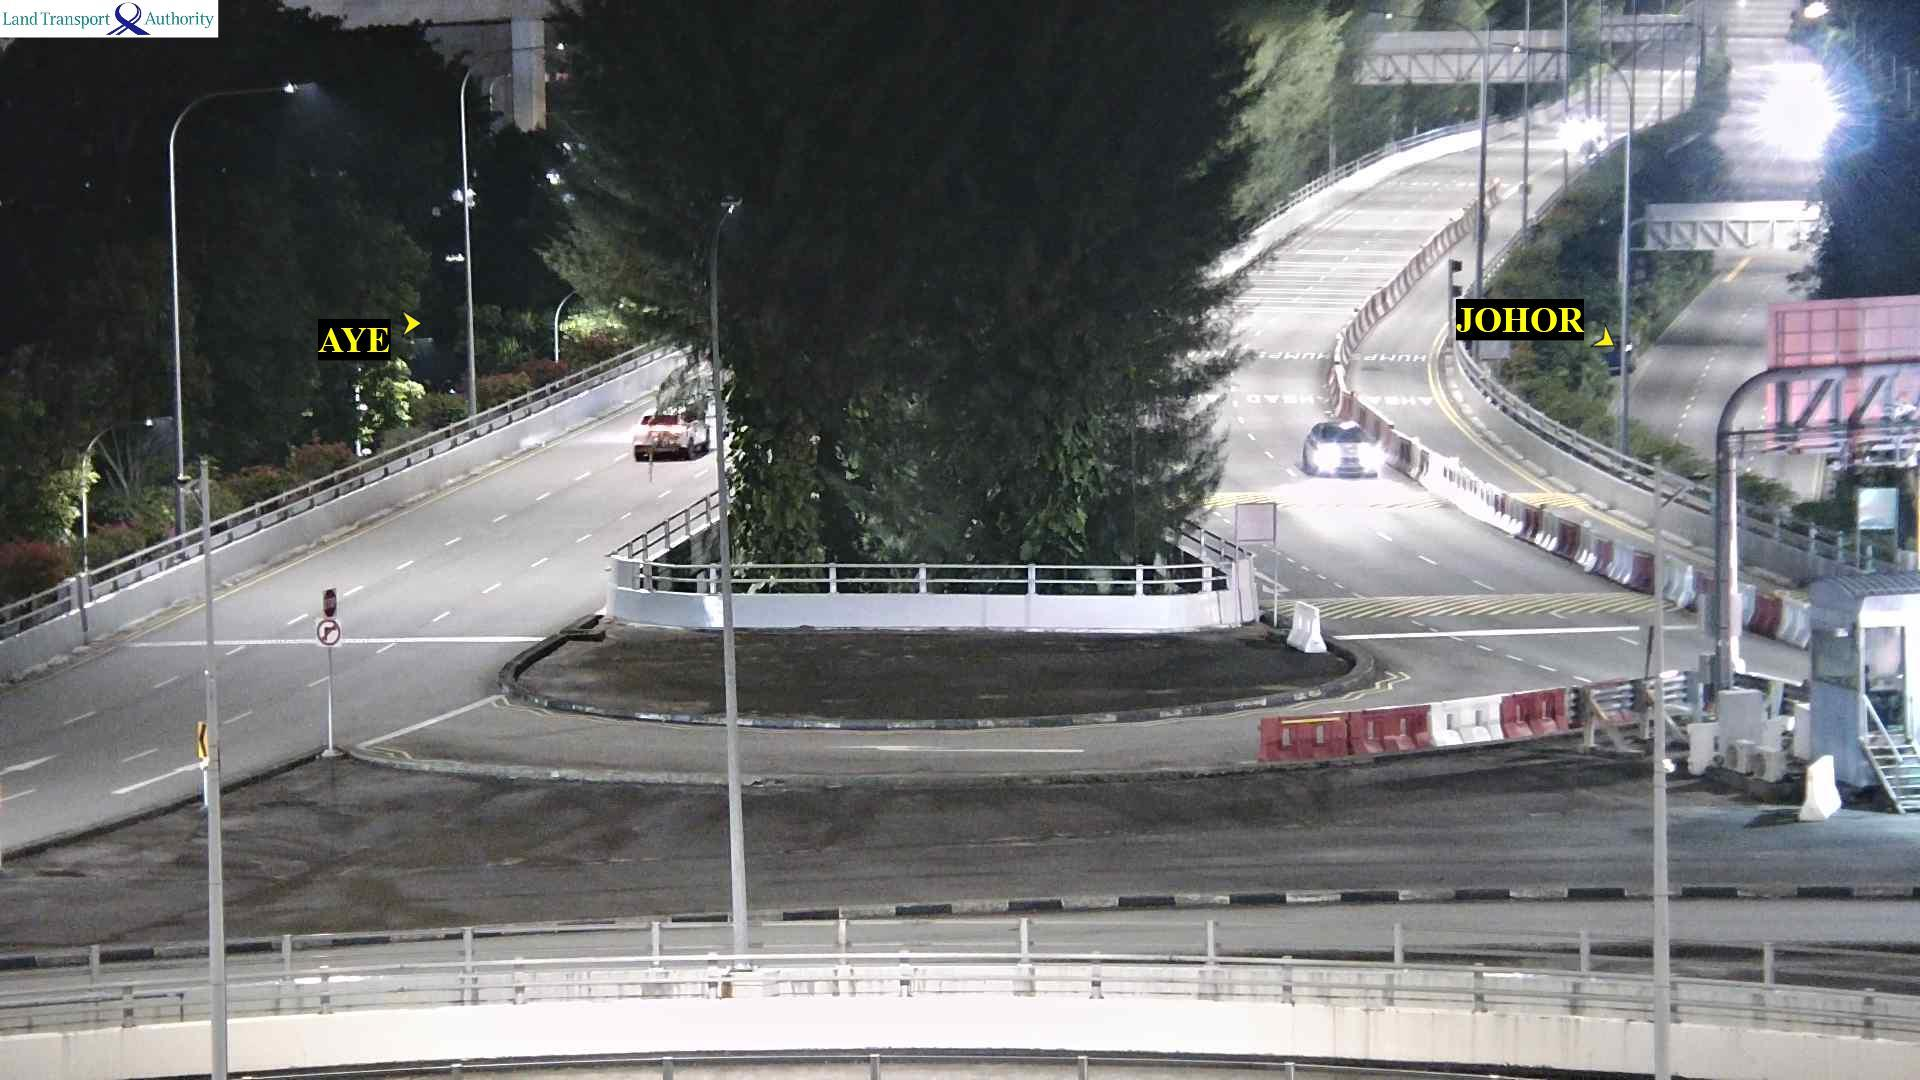vehicle-secondlink-johor: (1302, 418, 1383, 481)
vehicle-secondlink-singapore: (637, 398, 705, 465)
